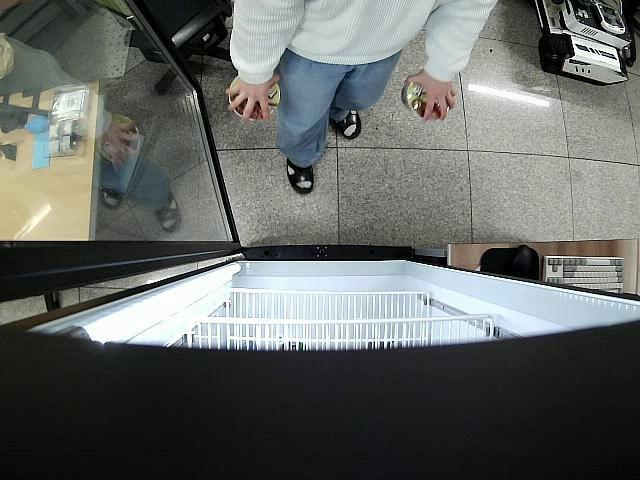03_chapagetti_L: (230, 77, 279, 122), (401, 78, 442, 123)
